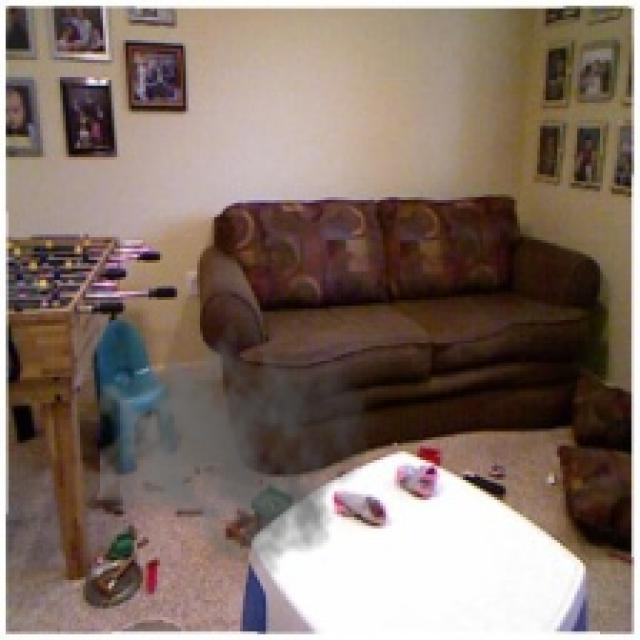smoke: (100, 309, 371, 577)
